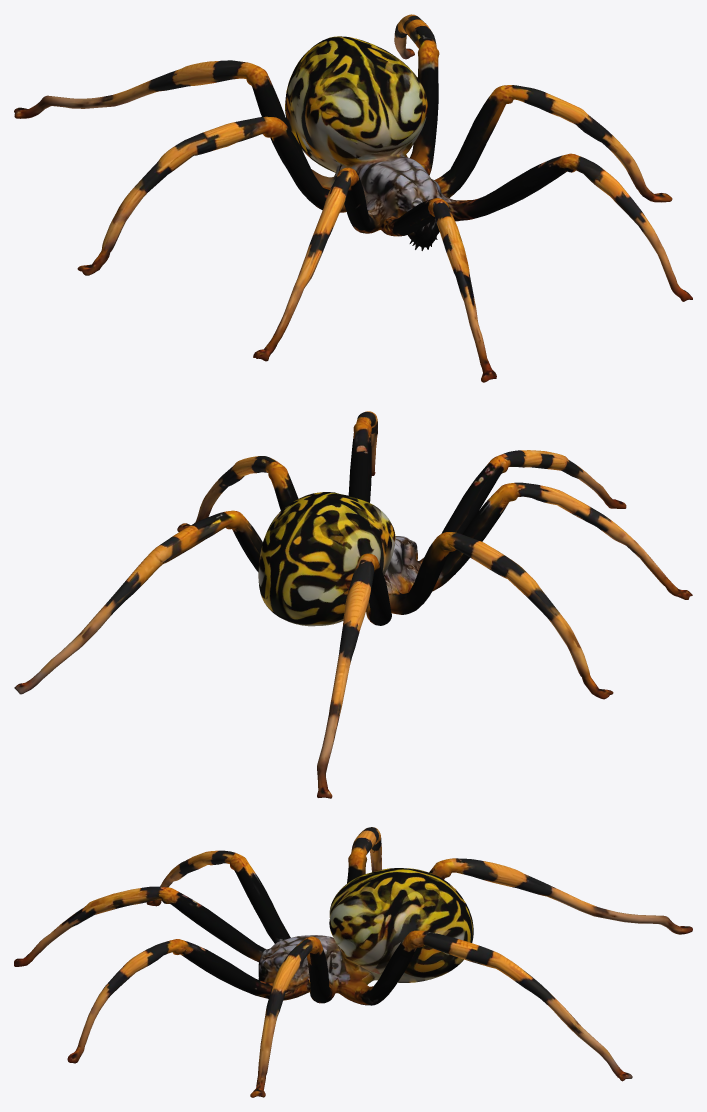
File: garden-spider.glb
The picture shows the model from 3 angles, top to bottom: view 1: azimuth 30°, elevation 25°; view 2: azimuth 150°, elevation 25°; view 3: azimuth 270°, elevation 25°; orthographic projection. The views are drawn at different scales.
Parts seen in each view (by area): view 1: material; view 2: material; view 3: material.
Boxes of the visible parts, x1,y1,x2,y2 form: material: [14, 14, 692, 382]; material: [14, 411, 692, 798]; material: [14, 827, 692, 1097].
Size of the model in its own units: 0.8326 by 0.2347 by 1.09.
1 material, 1 textured.
